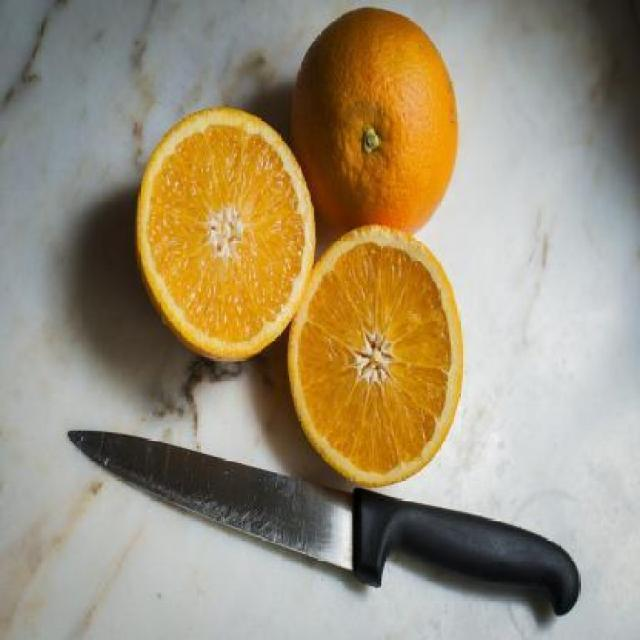Jeruk Sudah Matang: (286, 5, 459, 246)
